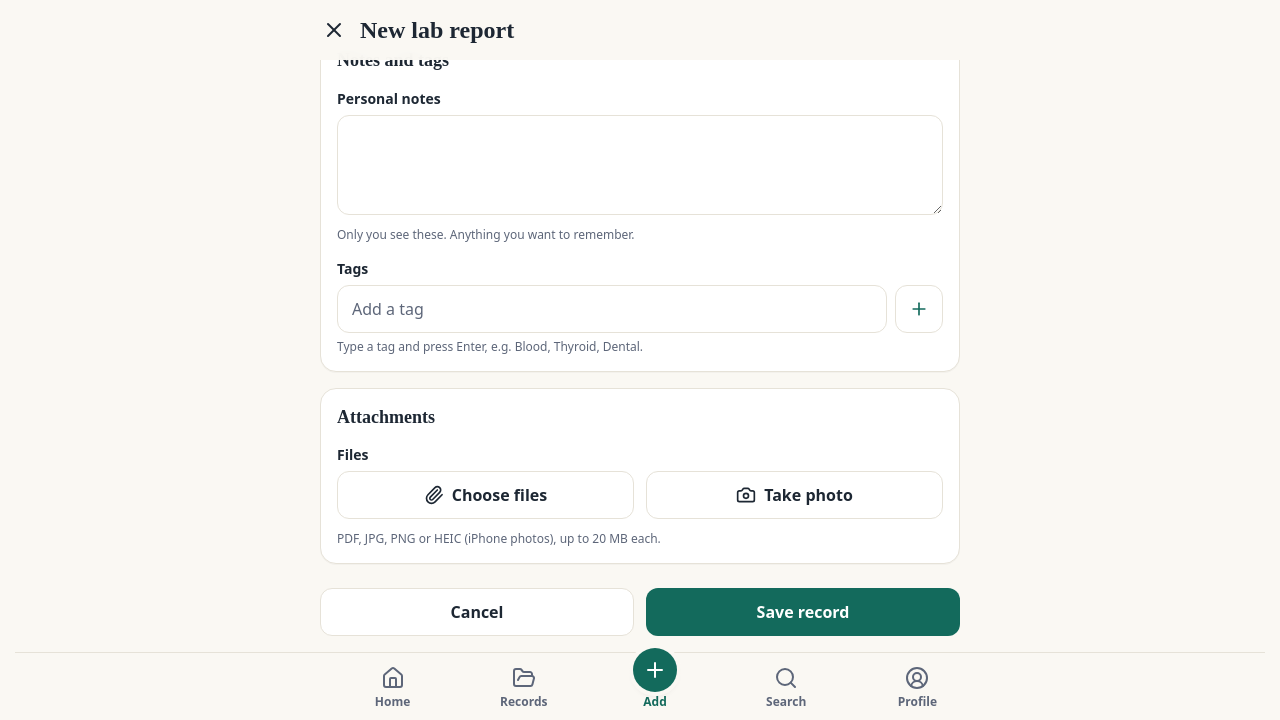
Test: adding a record › blocks saving a lab report without a test name
The image size is (1280, 720).
(page scrolled)
What coordinates should you click on to do the following:
click the button "Save record"
I would click on:
 (803, 612)
Its box is [646,588,960,636].
(page scrolled)
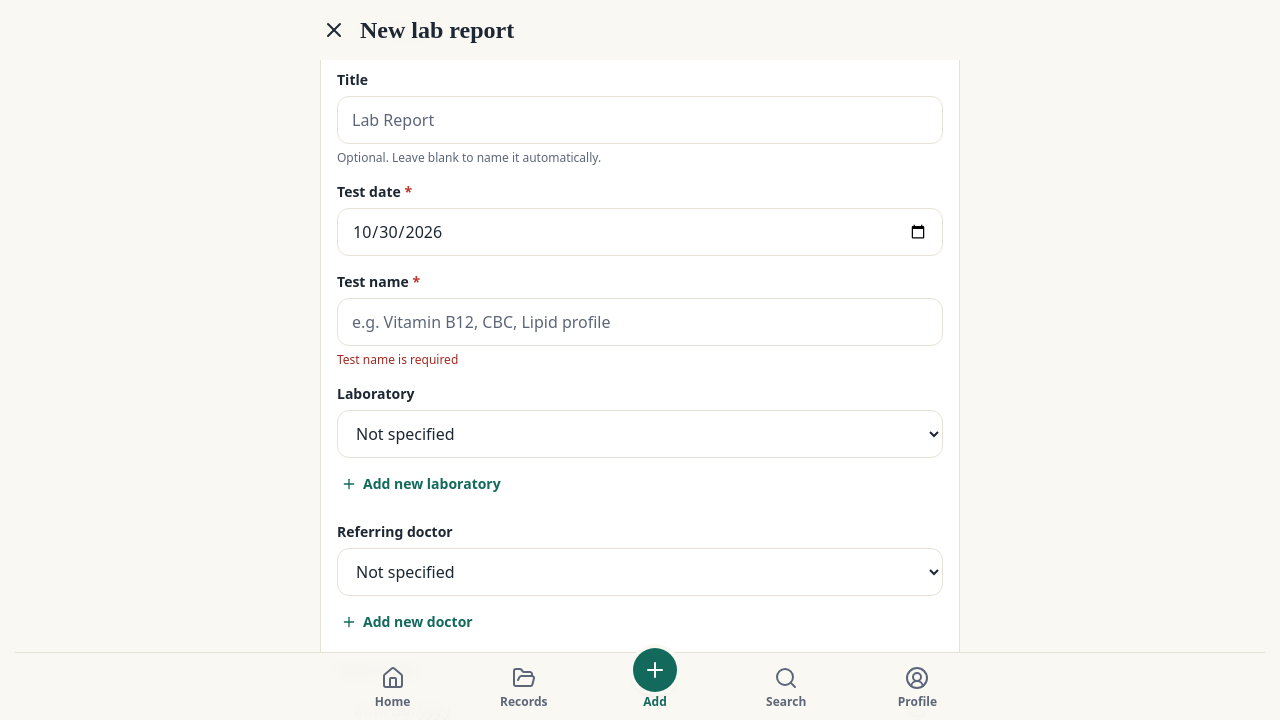
Now the text "Test name is required" is shown, box [337,351,458,368]
